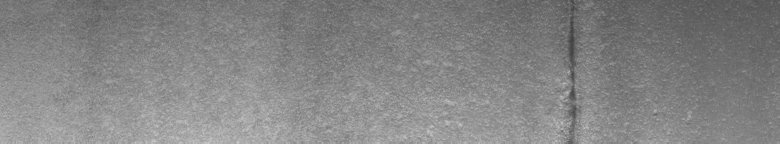hd: (560, 17, 583, 132)
